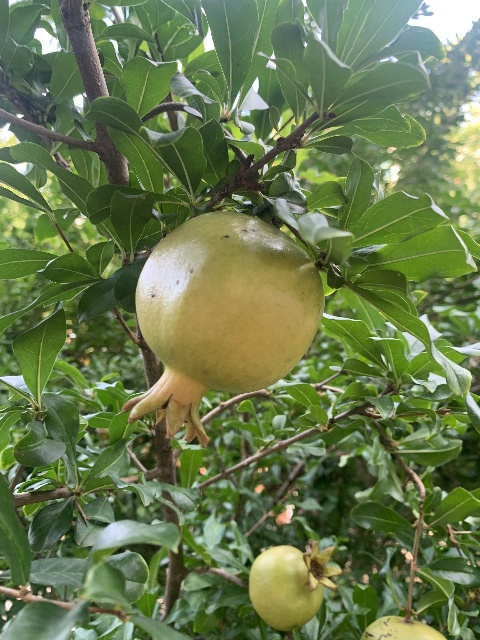mid-growth: (121, 212, 324, 447), (247, 540, 343, 632)
